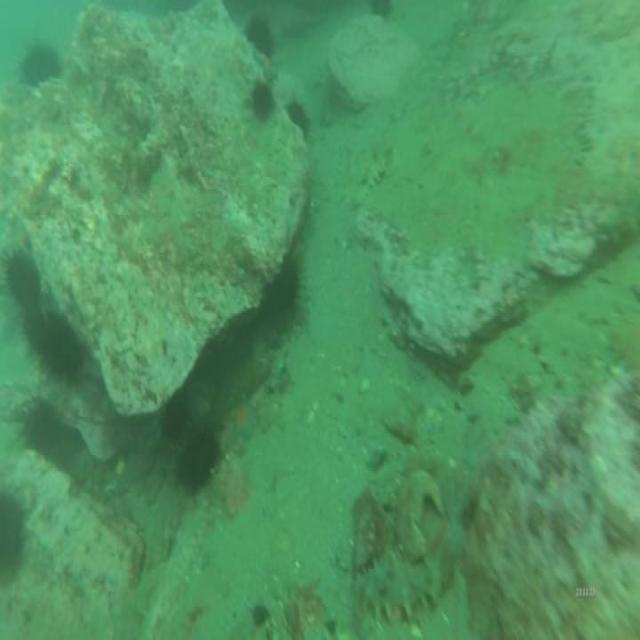echinus: (16, 392, 83, 472), (169, 420, 227, 504), (33, 305, 89, 386), (263, 245, 309, 335), (0, 484, 34, 586), (0, 240, 44, 317), (14, 36, 65, 94), (244, 70, 278, 126), (242, 12, 276, 64), (285, 89, 315, 142)
holothurian: (352, 545, 452, 631)
